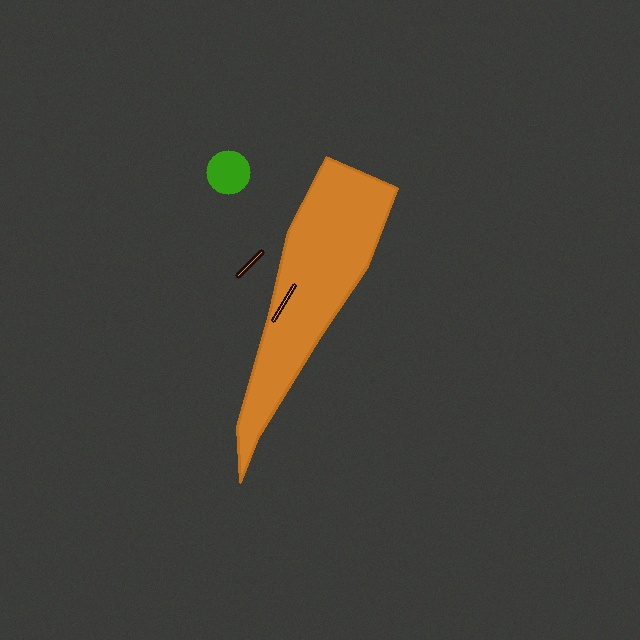Damaged_Carrot: (229, 149, 405, 490)
